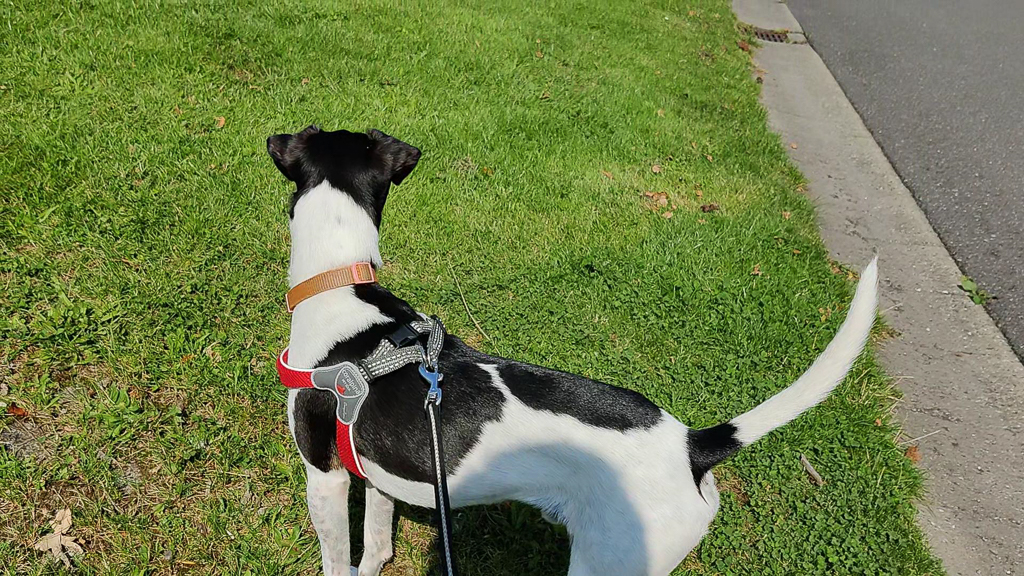Dog: (248, 113, 889, 576)
